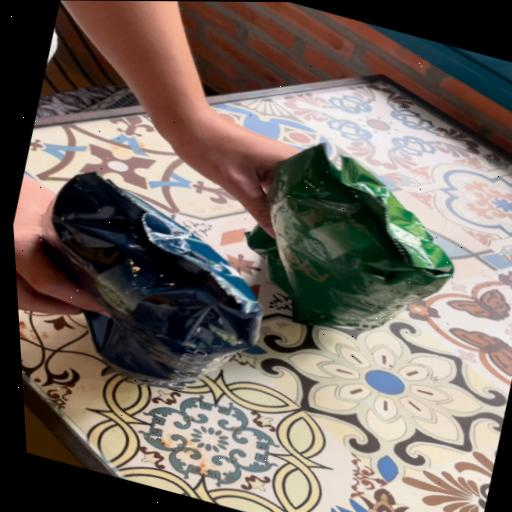cafe_hat: (43, 172, 263, 387), (246, 144, 454, 329)
cafe_xay: (246, 144, 454, 329)
